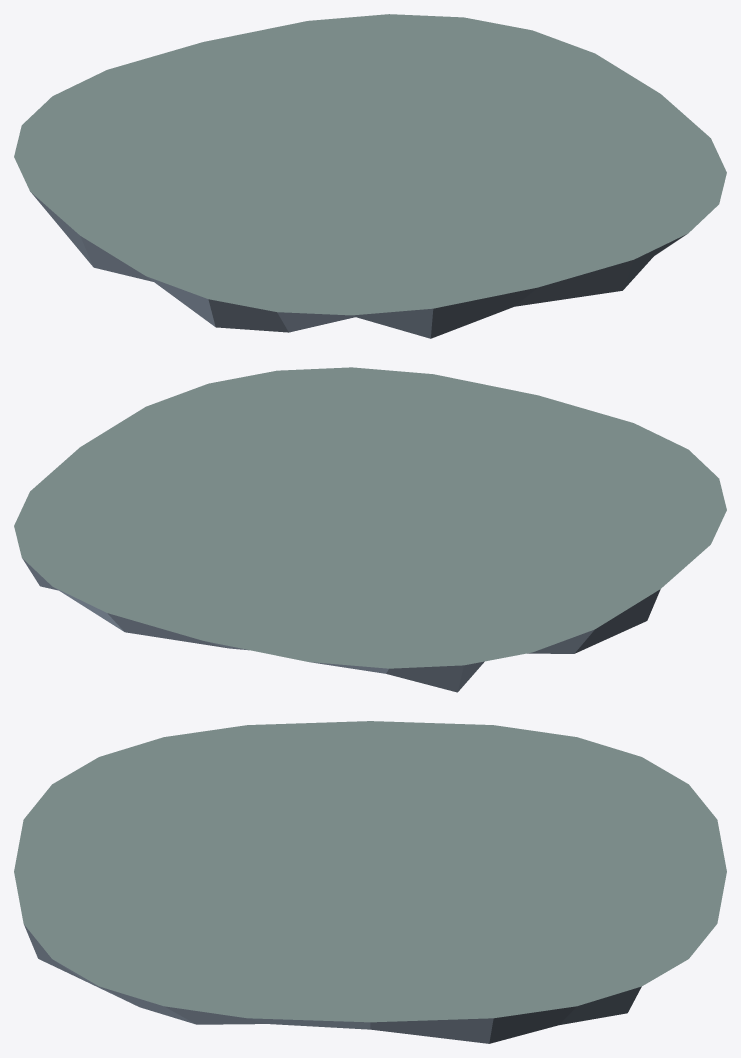
Rendered from Island_Frag_03.glb.
The picture shows the model from 3 angles, top to bottom: view 1: azimuth 30°, elevation 25°; view 2: azimuth 150°, elevation 25°; view 3: azimuth 270°, elevation 25°; orthographic projection. The views are drawn at different scales.
Visible parts, largest first — view 1: Island_Frag_03; view 2: Island_Frag_03; view 3: Island_Frag_03.
Boxes of the visible parts, <box> form: Island_Frag_03: <box>14,14,726,338</box>; Island_Frag_03: <box>14,367,726,692</box>; Island_Frag_03: <box>14,721,726,1043</box>.
Bounding box in the file's own units: 92 × 10.18 × 92.
